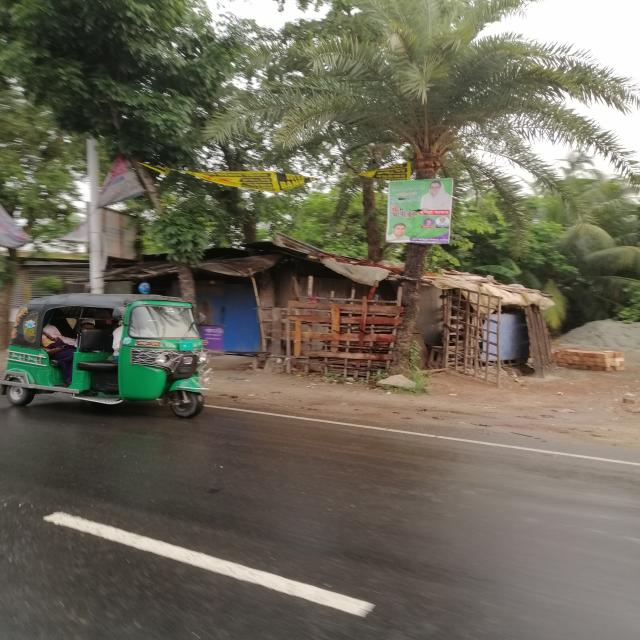CNG: (1, 291, 218, 423)
